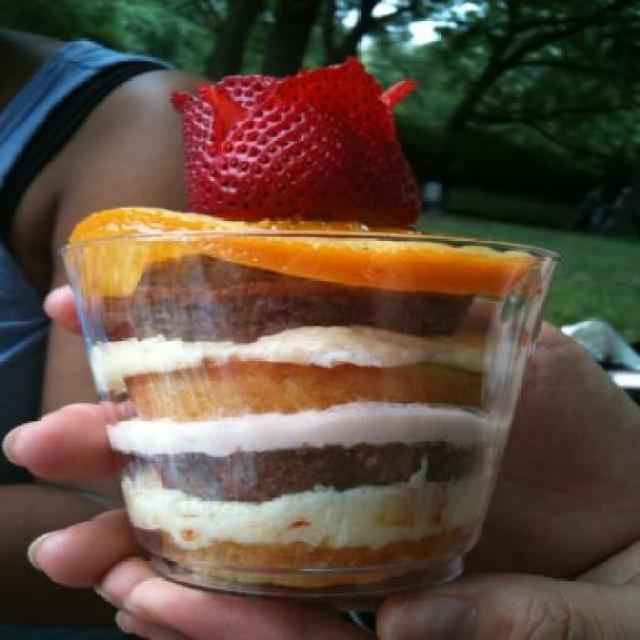Strawberry: (166, 73, 443, 218)
